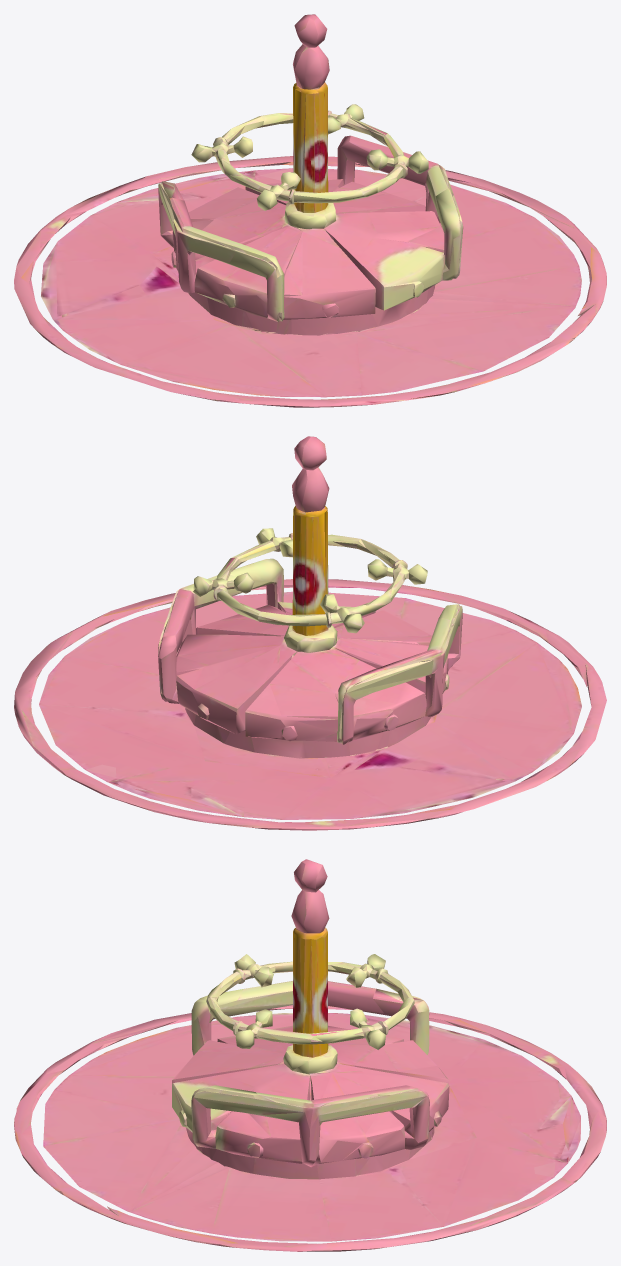
The model's file is merry_go_round.glb.
3 renders of one model, top to bottom at view 1: azimuth 30°, elevation 25°; view 2: azimuth 150°, elevation 25°; view 3: azimuth 270°, elevation 25°, orthographic.
Bounding box in the file's own units: 2.3 × 1.27 × 2.3.
Materials: 1 (1 with a texture image).
